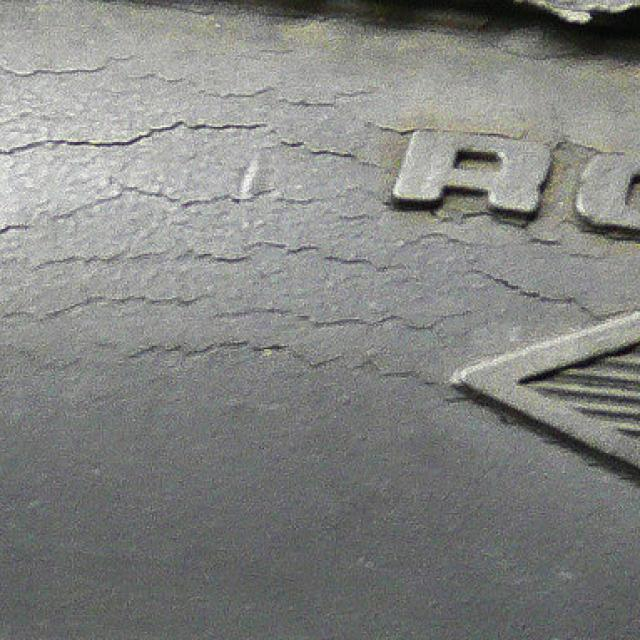Cracks: (0, 40, 640, 411)
